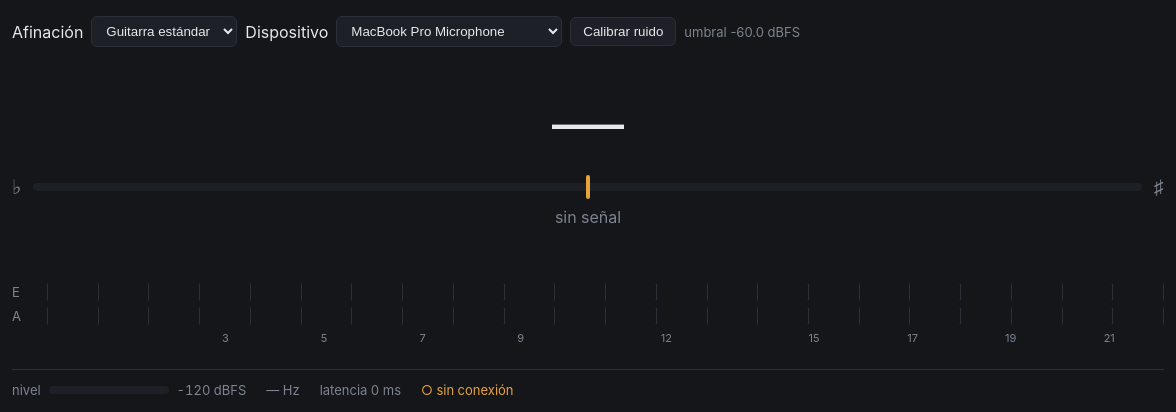
Test: Afinador - calibración › mide el umbral, lo muestra antes y después y lo guarda
Check: the text "umbral -60.0 dBFS" is shown, box [684, 24, 800, 40]
Click the button "Calibrar ruido" at (623, 32), box [570, 17, 676, 46]
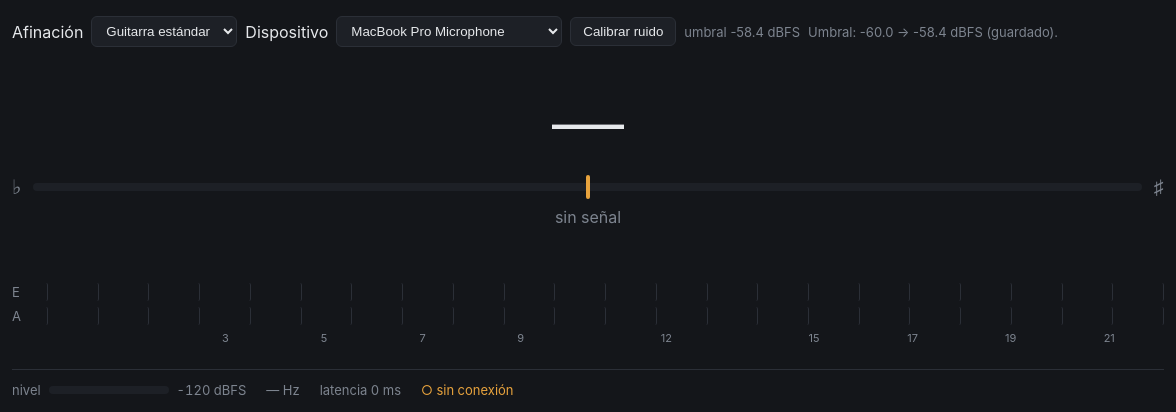
Check: the text "umbral -58.4 dBFS" is shown, box [684, 24, 800, 40]
Check: the text "Umbral: -60.0 → -58.4 dBFS (guardado)." is shown, box [808, 24, 1058, 40]
